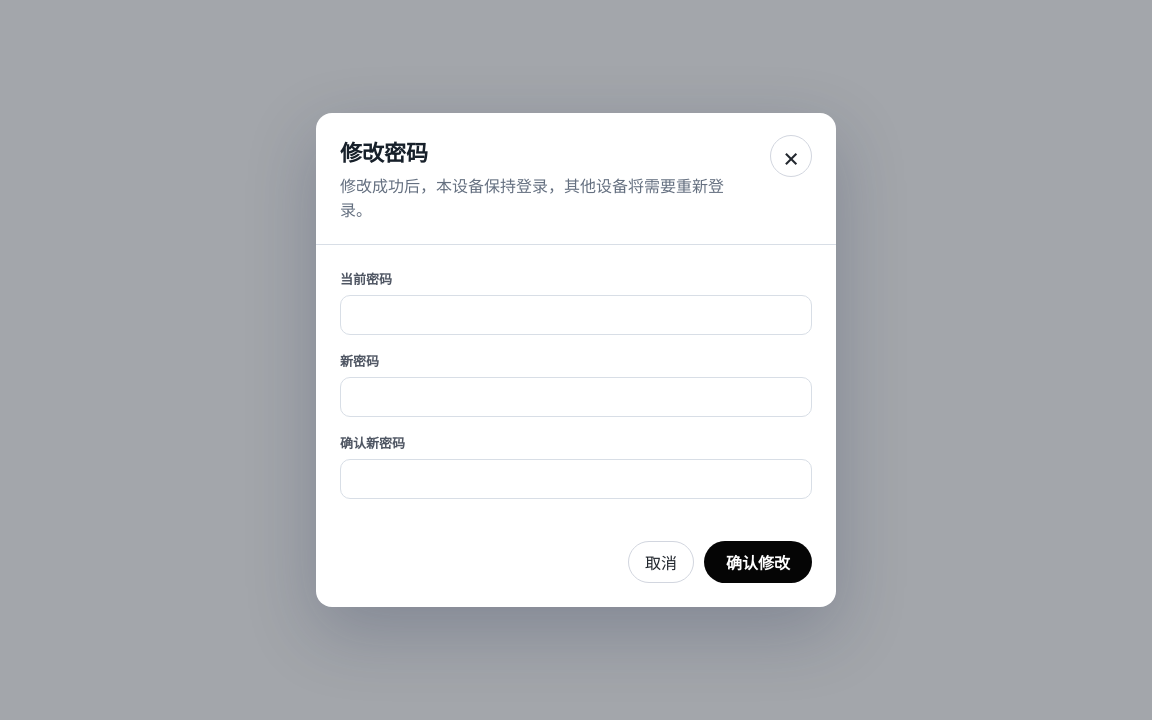
it: 失败路径:显示人话层错误文案，弹窗保持打开
The image size is (1152, 720).
Type "wrong-pass" into the password field labelled "当前密码" at (576, 315), box [340,295,812,335]
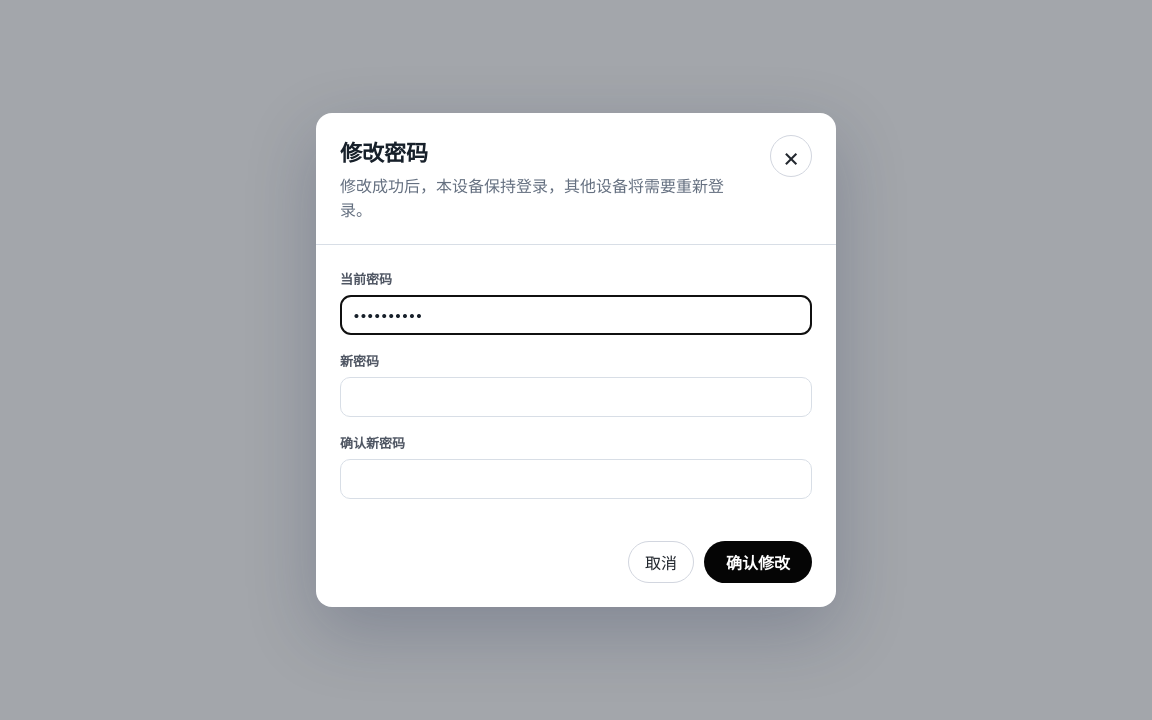
Type "new-pass-1" into the password field labelled "新密码" at (576, 397), box [340,377,812,417]
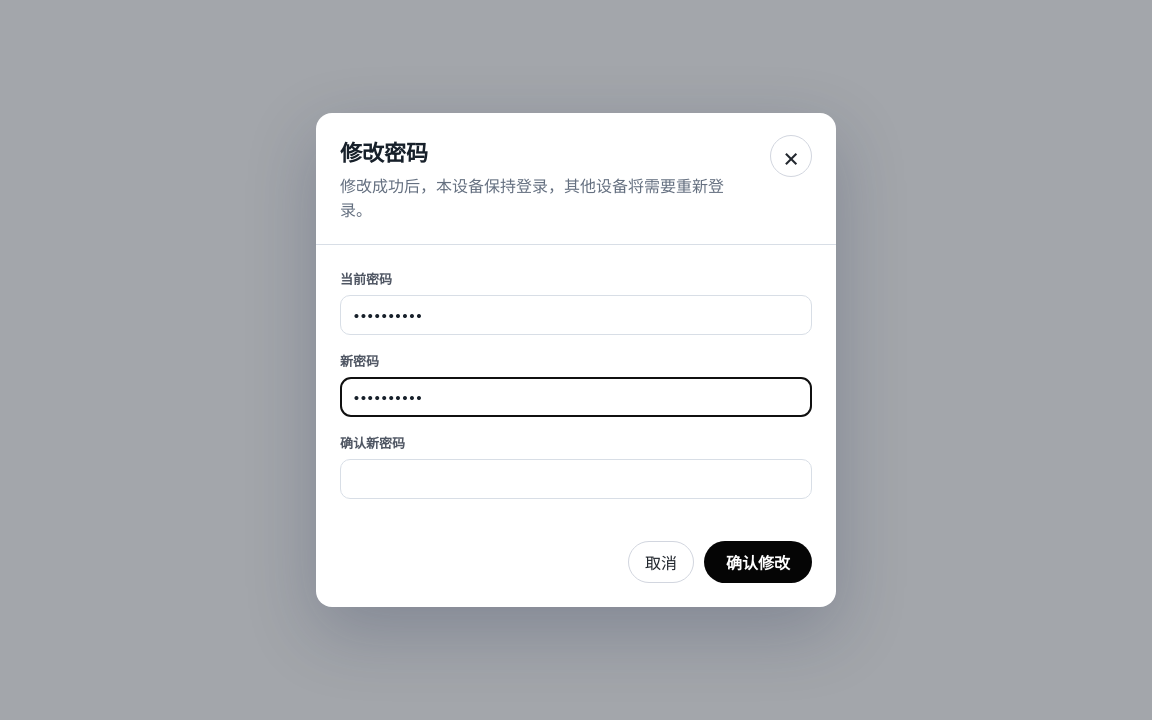
Type "new-pass-1" into the password field labelled "确认新密码" at (576, 479), box [340,459,812,499]
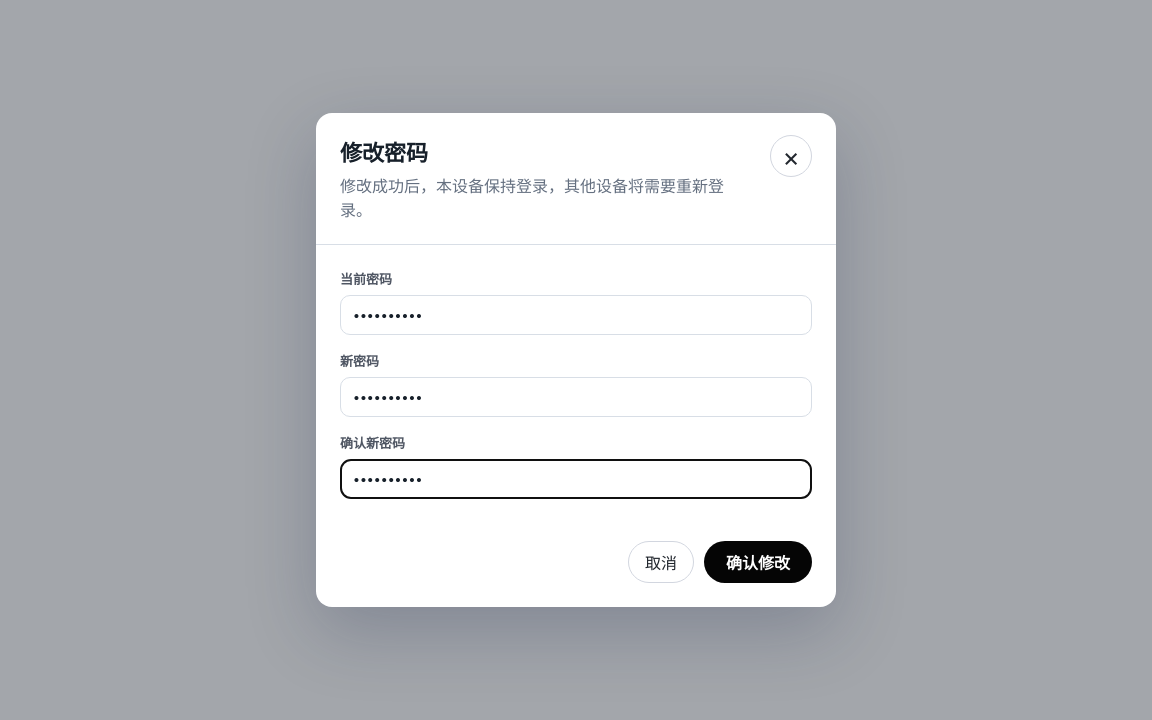
Click the button "确认修改" at (758, 562), box [704,541,812,583]
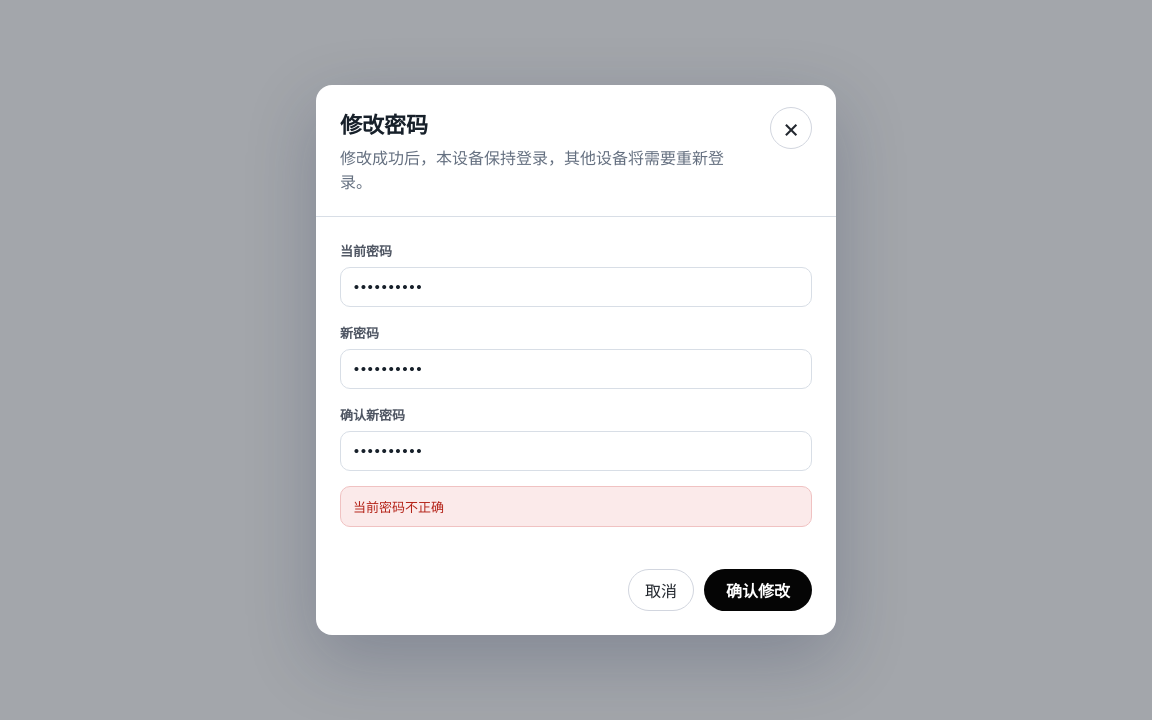
expect the button "确认修改" is shown: met, box [704,569,812,611]
expect the text "当前密码不正确" is shown: met, box [340,486,812,527]
